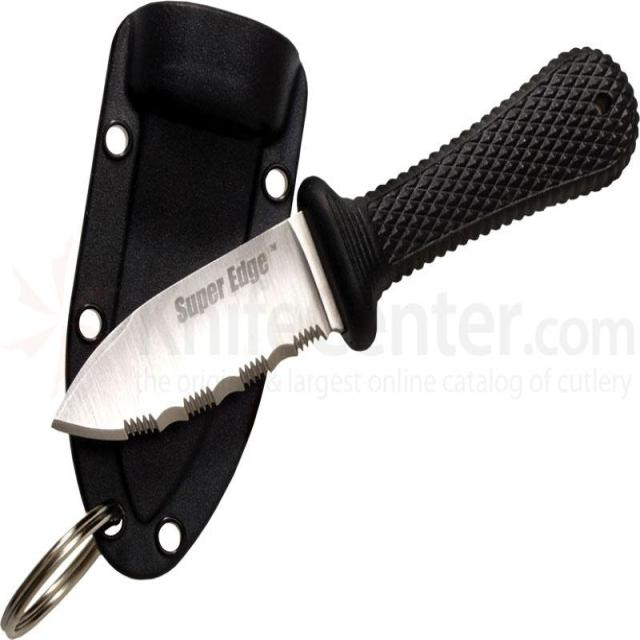knife: (49, 45, 640, 445)
